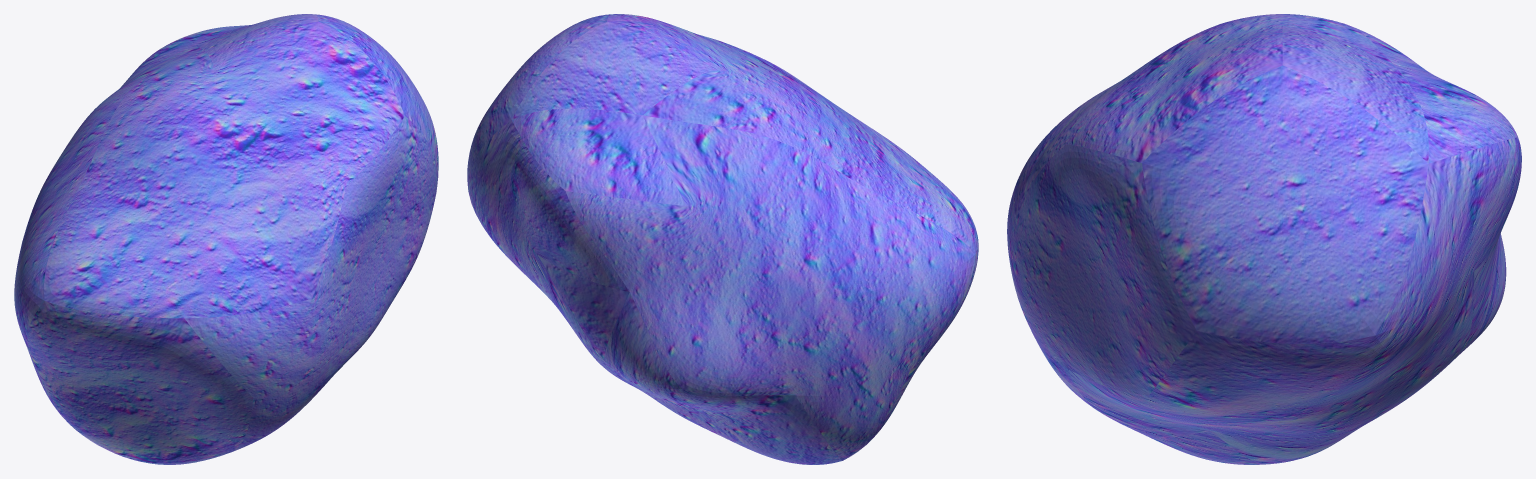
File: smallasteroid11_LOD0.fbx
The picture shows the model from 3 angles, left to right: view 1: azimuth 30°, elevation 25°; view 2: azimuth 150°, elevation 25°; view 3: azimuth 270°, elevation 25°; orthographic projection. The views are drawn at different scales.
Parts seen in each view (by area): view 1: Icosphere; view 2: Icosphere; view 3: Icosphere.
Boxes of the visible parts, x1,y1,x2,y2 form: Icosphere: [14, 14, 438, 464]; Icosphere: [467, 14, 978, 464]; Icosphere: [1007, 14, 1521, 464].
Size of the model in its own units: 287 by 249 by 236.
